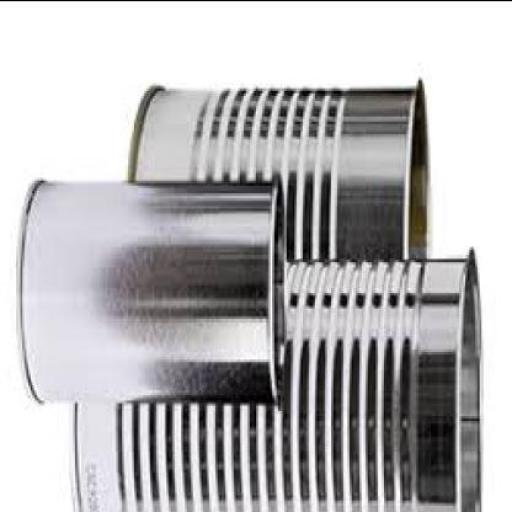metal: (75, 244, 486, 510), (25, 166, 288, 405), (136, 79, 433, 259)
